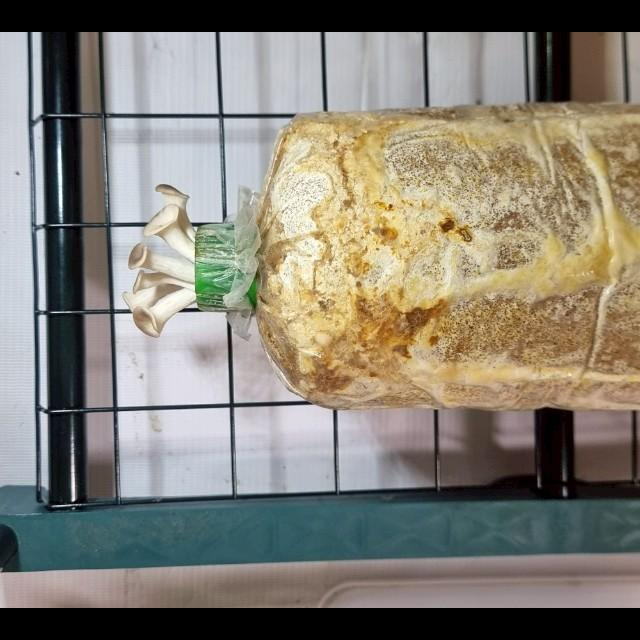normal: (120, 180, 198, 345)
